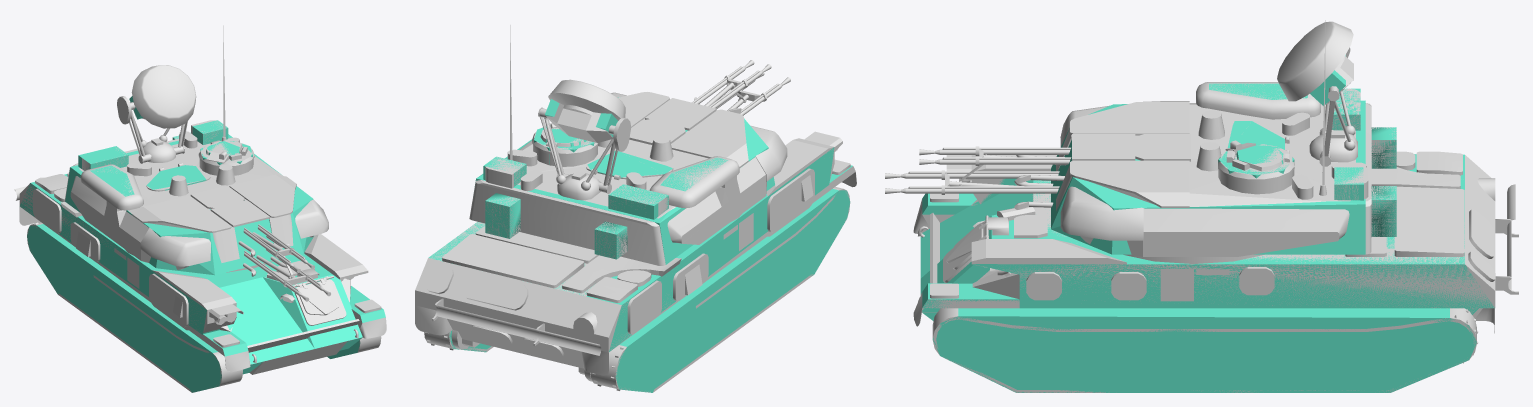
The model's file is ZSUWreck.fbx.
3 views of the same model, side by side, from view 1: azimuth 30°, elevation 25°; view 2: azimuth 150°, elevation 25°; view 3: azimuth 270°, elevation 25° (orthographic). The views are drawn at different scales.
Parts seen in each view (by area): view 1: ZSU_LOD0, UTM_Body; view 2: ZSU_LOD0, UTM_Body; view 3: ZSU_LOD0, UTM_Body.
Boxes of the visible parts, x1,y1,x2,y2 form: ZSU_LOD0: (14, 25, 386, 392); UTM_Body: (19, 96, 385, 392); ZSU_LOD0: (415, 25, 856, 392); UTM_Body: (428, 97, 852, 392); ZSU_LOD0: (885, 20, 1518, 392); UTM_Body: (920, 55, 1494, 392).
Size of what is drawn, in the model's own units: 305 by 448 by 700.
